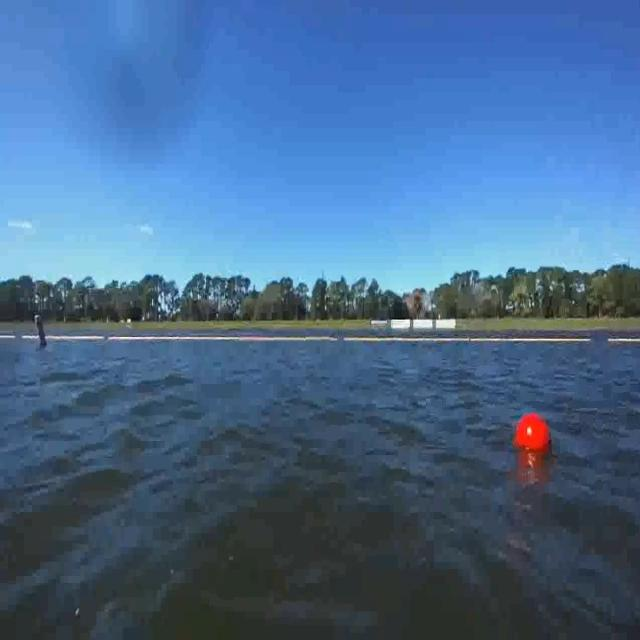red-buoy: (516, 415, 551, 455)
